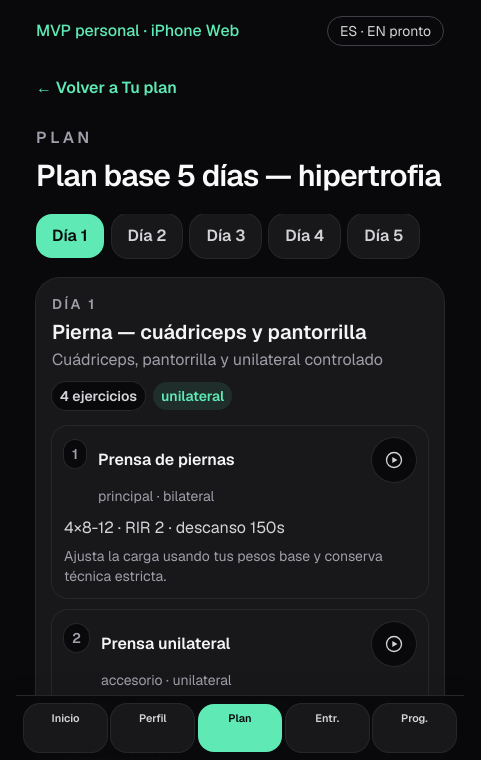
PlanDetailContent › switches to another day when its pill is tapped, without navigating away
Click the tab "Día 2" at {"x": 147, "y": 236}, box [112,214,182,258]
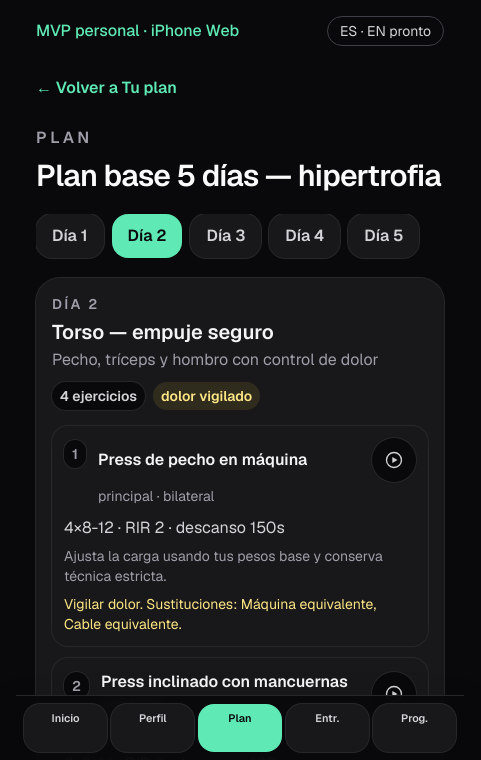
Expected: the heading "Torso — empuje seguro" is shown, [52,319,274,345]
Expected: the heading "Press de pecho en máquina" is shown, [98,448,307,472]
